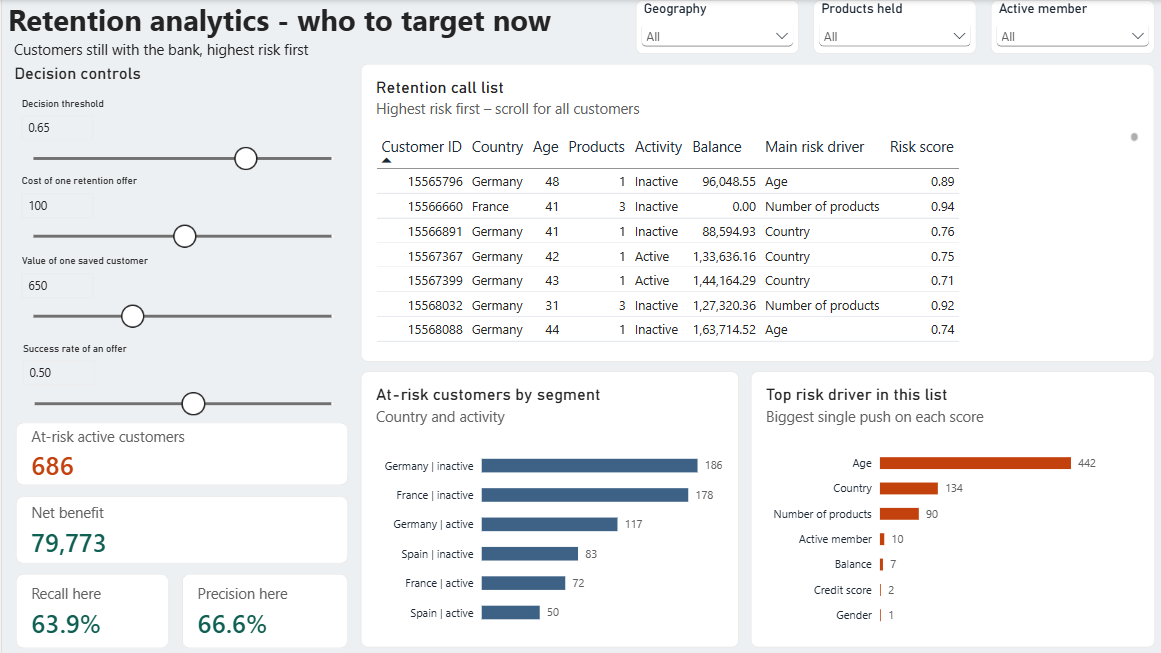

This screenshot's page, from the dashboard's own definition file:
{"tool":"powerbi","page":{"name":"Retention","canvas":[1280,720],"ordinal":2},"visuals":[{"type":"textbox","box":[0,0,681.4,70.1],"z":0},{"type":"slicer","title":"Decision controls","fields":{"Values":["Threshold.Threshold"]},"box":[13.7,70,366.4,122.1],"z":1},{"type":"slicer","fields":{"Values":["OfferCost.OfferCost"]},"box":[13.7,192.1,366.4,87.8],"z":3},{"type":"slicer","fields":{"Values":["SuccessRate.SuccessRate"]},"box":[15.1,376,365,87.8],"z":4},{"type":"slicer","fields":{"Values":["SaveValue.SaveValue"]},"box":[13.7,279.9,366.4,96.1],"z":5},{"type":"cardVisual","fields":{"Data":["_Measures.Net benefit"]},"box":[15.1,544.8,365,74.1],"z":6},{"type":"cardVisual","fields":{"Data":["_Measures.Recall here"]},"box":[15.1,629.8,168.8,82.3],"z":7},{"type":"cardVisual","fields":{"Data":["_Measures.Precision here"]},"box":[197.6,629.8,182.5,82.3],"z":8},{"type":"cardVisual","fields":{"Data":["_Measures.At-risk customers"]},"box":[15.1,463.8,365,70],"z":9},{"type":"tableEx","title":"Retention call list","fields":{"Values":["scored_customers.CustomerId","scored_customers.Geography","scored_customers.Age","scored_customers.NumOfProducts","scored_customers.Activity","scored_customers.Balance","scored_customers.Risk driver","scored_customers.risk_score"]},"box":[394.2,70.1,870.9,326.9],"z":10},{"type":"slicer","fields":{"Values":["scored_customers.Geography"]},"box":[695.1,0,179,59.1],"z":11},{"type":"slicer","fields":{"Values":["scored_customers.NumOfProducts"]},"box":[890.2,0,179,59.1],"z":12},{"type":"slicer","fields":{"Values":["scored_customers.Activity"]},"box":[1085.2,0,180,59.1],"z":13},{"type":"clusteredBarChart","title":"At-risk customers by segment","fields":{"Category":["scored_customers.segment"],"Y":["_Measures.At-risk customers"]},"box":[394.2,408,414.9,303.6],"z":14},{"type":"clusteredBarChart","title":" Top risk driver in this list","fields":{"Category":["scored_customers.Risk driver"],"Y":["_Measures.At-risk customers"]},"box":[821.5,408,443.7,303.6],"z":15}]}

Visuals, with their boxes in screenshot pixels (x1, y1, x2, y2), scaled from the page's 1280x720 canvas onto the 1161x653 screenshot:
textbox: bbox=(0, 0, 618, 64)
"Decision controls" slicer: bbox=(12, 63, 345, 174)
slicer - OfferCost.OfferCost: bbox=(12, 174, 345, 254)
slicer - SuccessRate.SuccessRate: bbox=(14, 341, 345, 421)
slicer - SaveValue.SaveValue: bbox=(12, 254, 345, 341)
cardVisual - _Measures.Net benefit: bbox=(14, 494, 345, 561)
cardVisual - _Measures.Recall here: bbox=(14, 571, 167, 646)
cardVisual - _Measures.Precision here: bbox=(179, 571, 345, 646)
cardVisual - _Measures.At-risk customers: bbox=(14, 421, 345, 484)
"Retention call list" tableEx: bbox=(358, 64, 1147, 360)
slicer - scored_customers.Geography: bbox=(630, 0, 793, 54)
slicer - scored_customers.NumOfProducts: bbox=(807, 0, 970, 54)
slicer - scored_customers.Activity: bbox=(984, 0, 1148, 54)
"At-risk customers by segment" clusteredBarChart: bbox=(358, 370, 734, 645)
" Top risk driver in this list" clusteredBarChart: bbox=(745, 370, 1148, 645)
